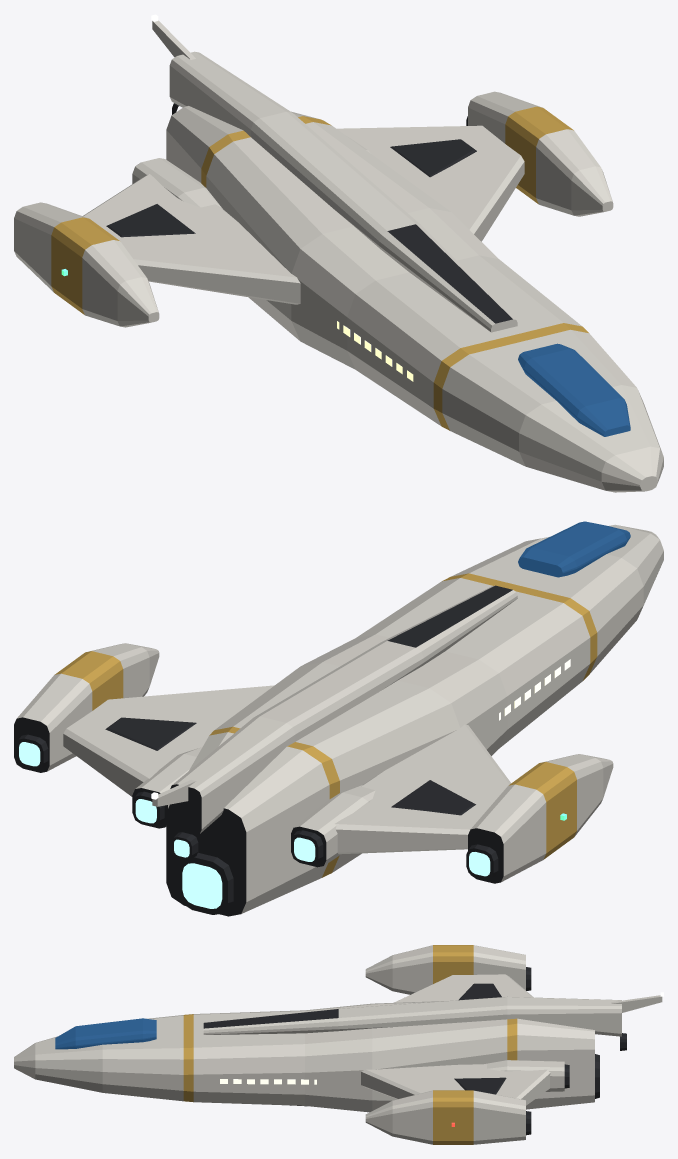
The model's file is imperial-cutter.glb.
3 views of the same model, one above another, from view 1: azimuth 30°, elevation 25°; view 2: azimuth 150°, elevation 25°; view 3: azimuth 270°, elevation 25° (orthographic). The views are drawn at different scales.
Visible parts, largest first — view 1: imperial-cutter; view 2: imperial-cutter; view 3: imperial-cutter.
Part boxes in pixels (<box>): imperial-cutter: <box>14,14,663,492</box>; imperial-cutter: <box>14,521,663,916</box>; imperial-cutter: <box>14,945,663,1144</box>.
Size of the model in its own units: 113 by 36.8 by 193.
